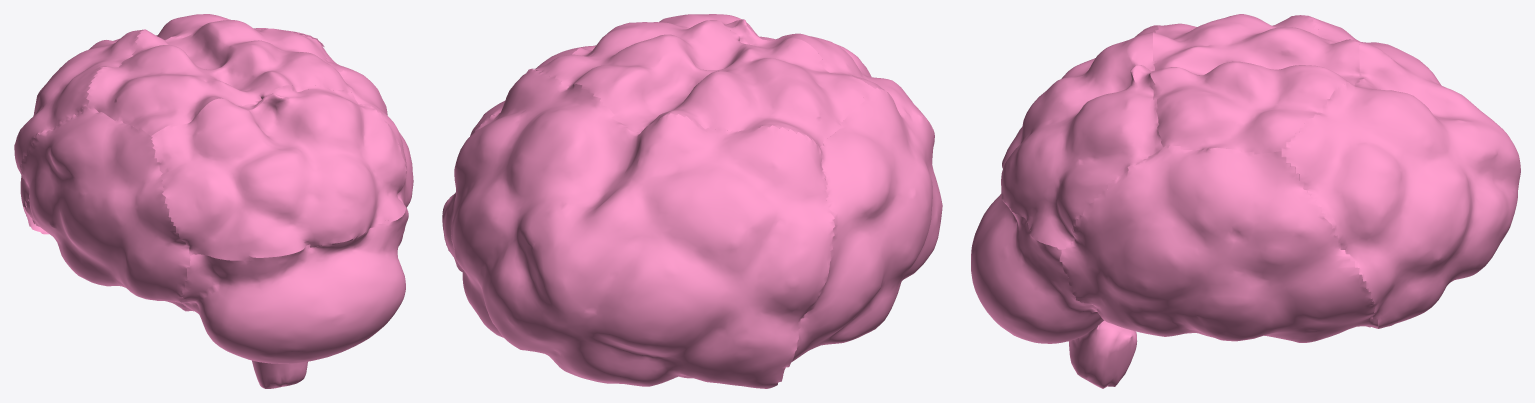
The model's file is brain.glb.
The picture shows the model from 3 angles, left to right: view 1: azimuth 30°, elevation 25°; view 2: azimuth 150°, elevation 25°; view 3: azimuth 270°, elevation 25°; orthographic projection. The views are drawn at different scales.
Visible parts, largest first — view 1: zone_occipital, zone_temporal, zone_cervelet, zone_parietal, zone_frontal; view 2: zone_frontal, zone_parietal, zone_temporal, zone_occipital; view 3: zone_temporal, zone_frontal, zone_parietal, zone_occipital, zone_cervelet.
Boxes of the visible parts, x1,y1,x2,y2 form: zone_occipital: (151, 85, 406, 260); zone_temporal: (20, 44, 413, 311); zone_cervelet: (180, 207, 408, 388); zone_parietal: (86, 19, 352, 135); zone_frontal: (14, 14, 324, 234); zone_frontal: (442, 68, 835, 388); zone_parietal: (535, 20, 874, 149); zone_temporal: (445, 45, 942, 361); zone_occipital: (659, 14, 933, 129); zone_temporal: (1059, 131, 1378, 342); zone_frontal: (1281, 16, 1520, 328); zone_parietal: (1150, 14, 1363, 154); zone_occipital: (1001, 25, 1162, 249); zone_cervelet: (971, 194, 1137, 388).
Bounding box in the file's own units: 0.1305 × 0.1128 × 0.1676.
